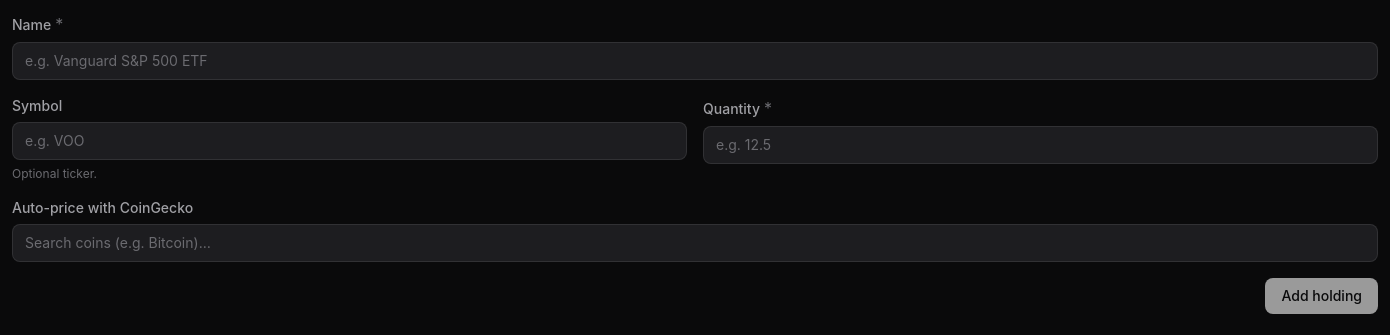
Test case: HoldingForm › rejects a non-positive or invalid quantity instead of submitting
Type "Bad" into the field labelled "Name" at (695, 61), box [12, 42, 1378, 80]
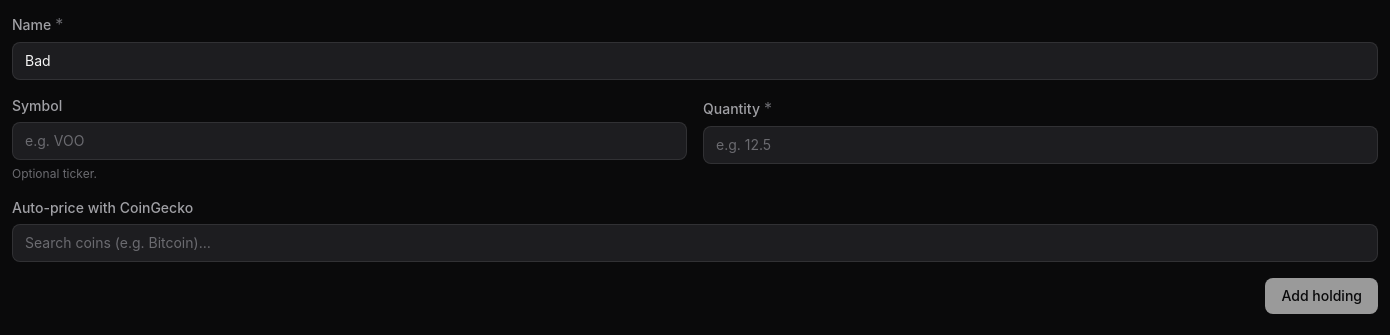
Type "0" into the field labelled "Quantity" at (1040, 145), box [703, 126, 1378, 164]
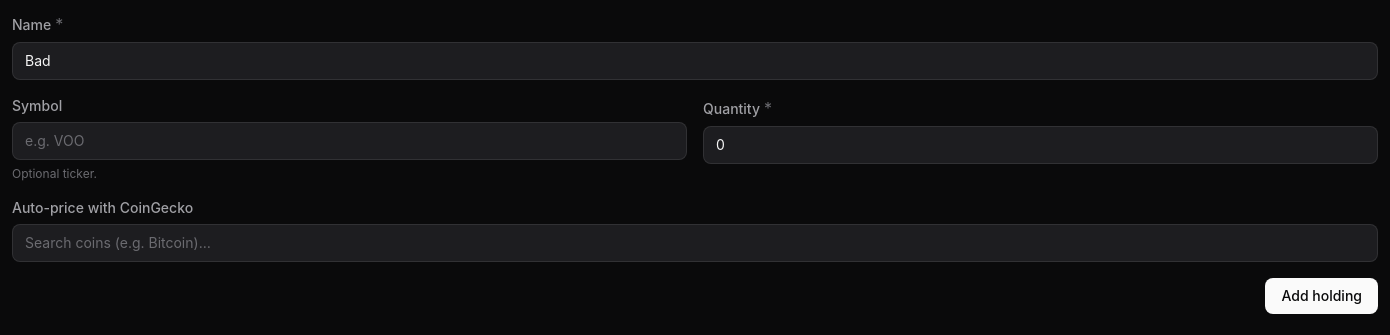
Click the button "Add holding" at (1322, 296), box [1266, 278, 1378, 314]
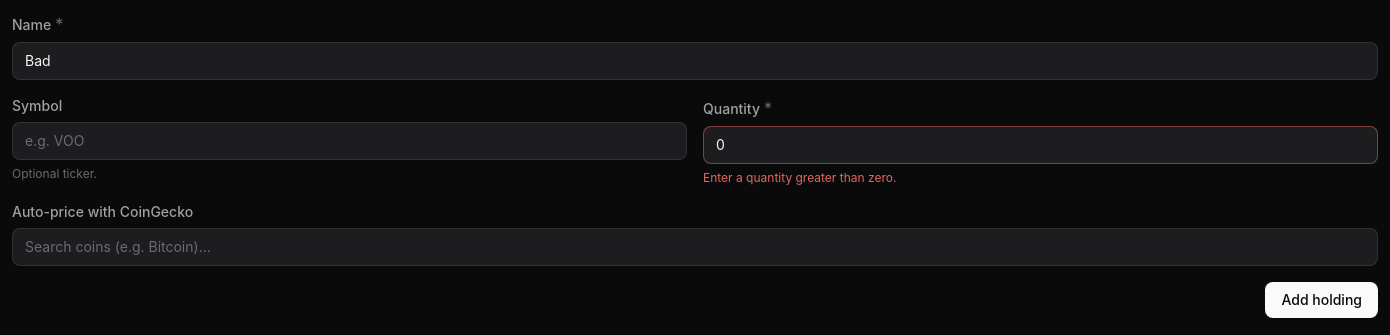
Expected: the text "Enter a quantity greater than zero." is shown, [703, 170, 896, 185]
